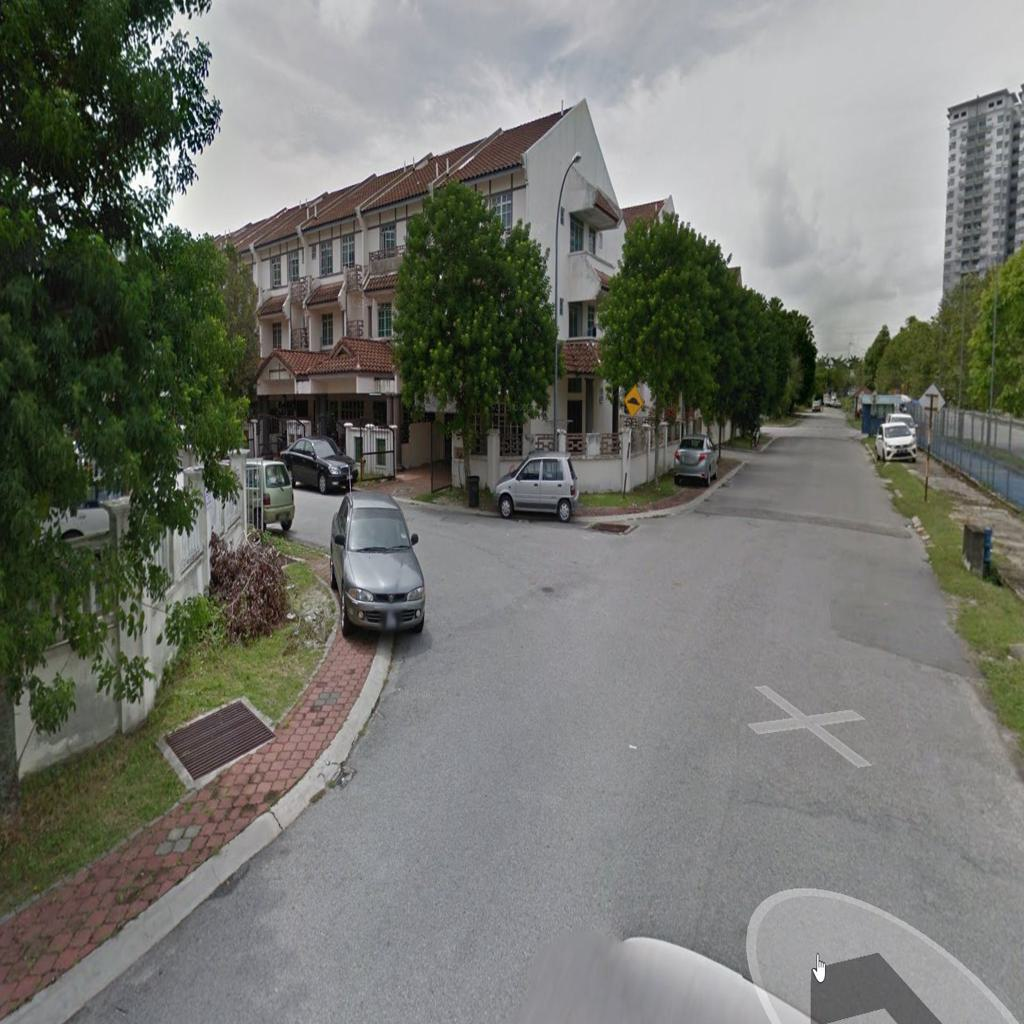Junction: (298, 467, 700, 817)
